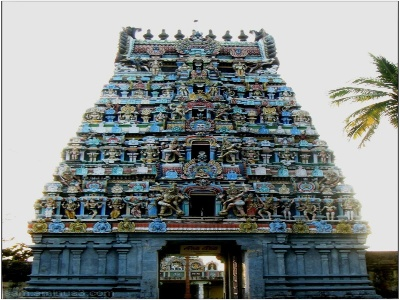gopura: (28, 33, 367, 231)
